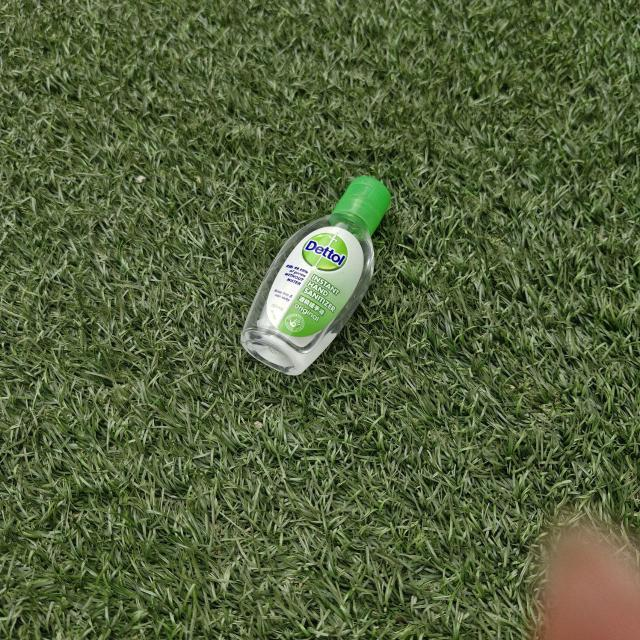plastic: (240, 161, 400, 383)
